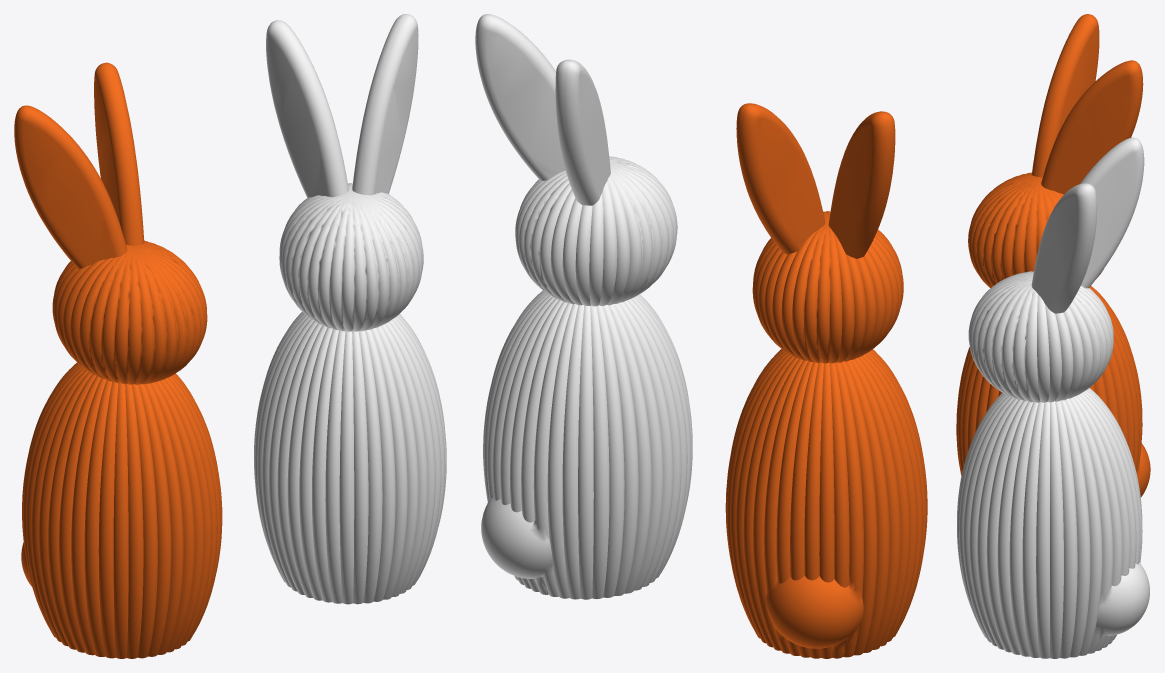
File: Minimalistic-Bunny_Optimized.glb
The picture shows the model from 3 angles, left to right: view 1: azimuth 30°, elevation 25°; view 2: azimuth 150°, elevation 25°; view 3: azimuth 270°, elevation 25°; orthographic projection. The views are drawn at different scales.
Visible parts, largest first — view 1: Minimalistic+bunnystl, Minimalistic+bunnystl001; view 2: Minimalistic+bunnystl001, Minimalistic+bunnystl; view 3: Minimalistic+bunnystl001, Minimalistic+bunnystl.
Boxes of the visible parts, bbox=[...] form: Minimalistic+bunnystl: bbox=[14, 62, 222, 658]; Minimalistic+bunnystl001: bbox=[254, 14, 446, 604]; Minimalistic+bunnystl001: bbox=[475, 14, 692, 599]; Minimalistic+bunnystl: bbox=[725, 103, 927, 658]; Minimalistic+bunnystl001: bbox=[957, 137, 1149, 658]; Minimalistic+bunnystl: bbox=[956, 14, 1150, 497].
Size of the model in its own units: 0.136 by 0.1707 by 0.0624.
